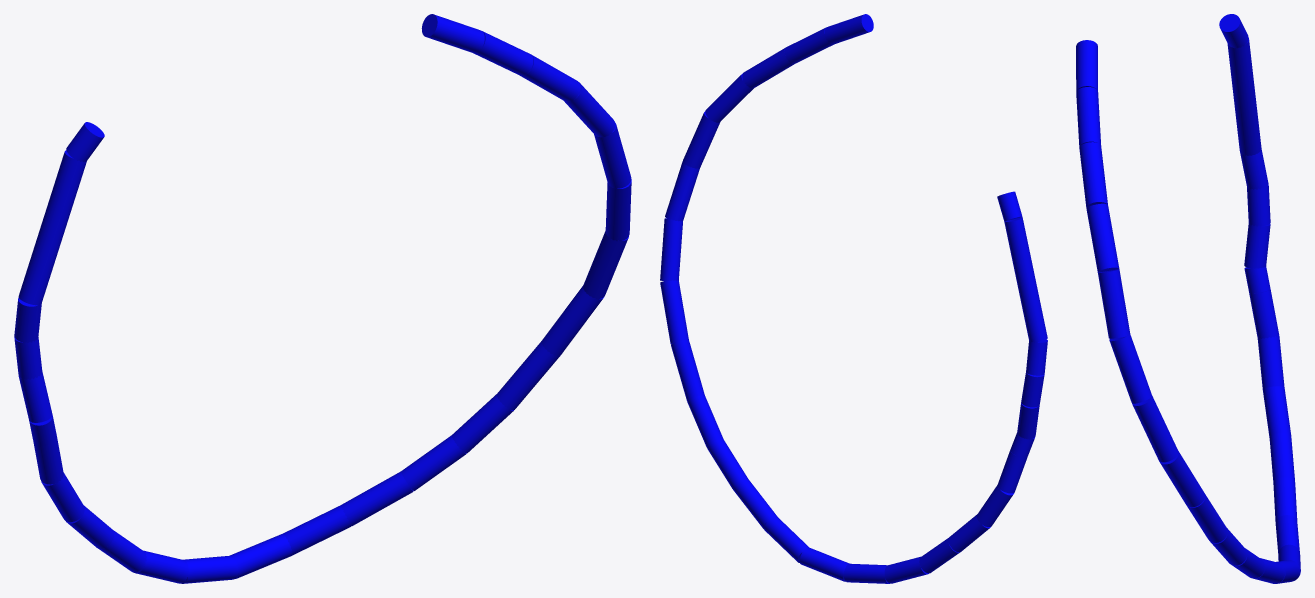
3 views of the same model, side by side, from view 1: azimuth 30°, elevation 25°; view 2: azimuth 150°, elevation 25°; view 3: azimuth 270°, elevation 25° (orthographic). The views are drawn at different scales.
Parts seen in each view (by area): view 1: Cylinder(Clone) (×25); view 2: Cylinder(Clone) (×25); view 3: Cylinder(Clone) (×26).
Part boxes in pixels (bbox=[...]): Cylinder(Clone) (×25): bbox=[14, 14, 631, 583]; Cylinder(Clone) (×25): bbox=[660, 14, 1047, 583]; Cylinder(Clone) (×26): bbox=[1076, 14, 1300, 583].
Size of the model in its own units: 0.2616 by 0.284 by 0.1024.
